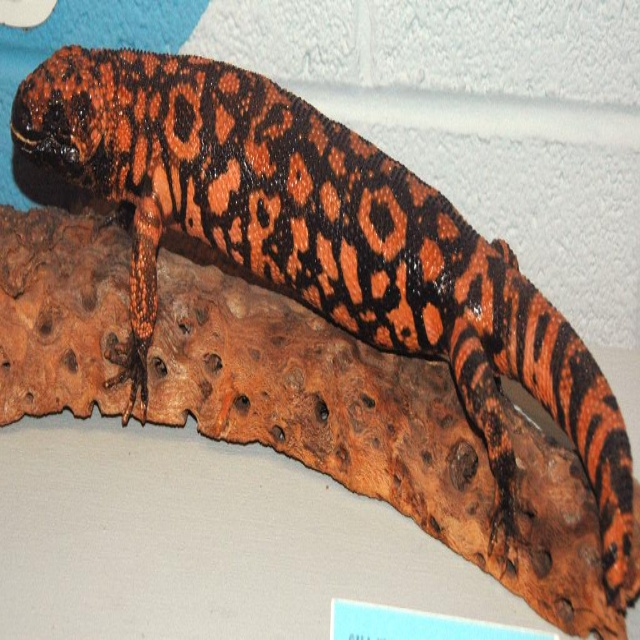Lizard: (34, 54, 640, 559)
